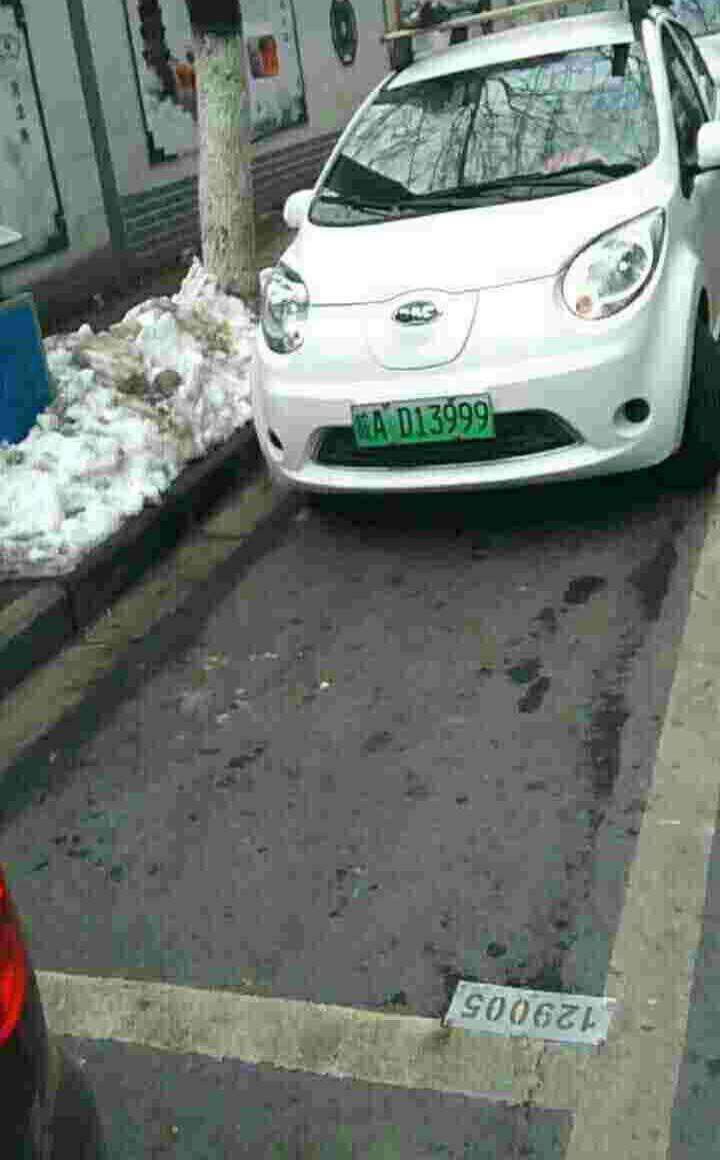car_id: (349, 392, 496, 448)
